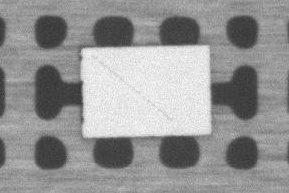DIE_CRACK: (139, 37, 258, 80)
